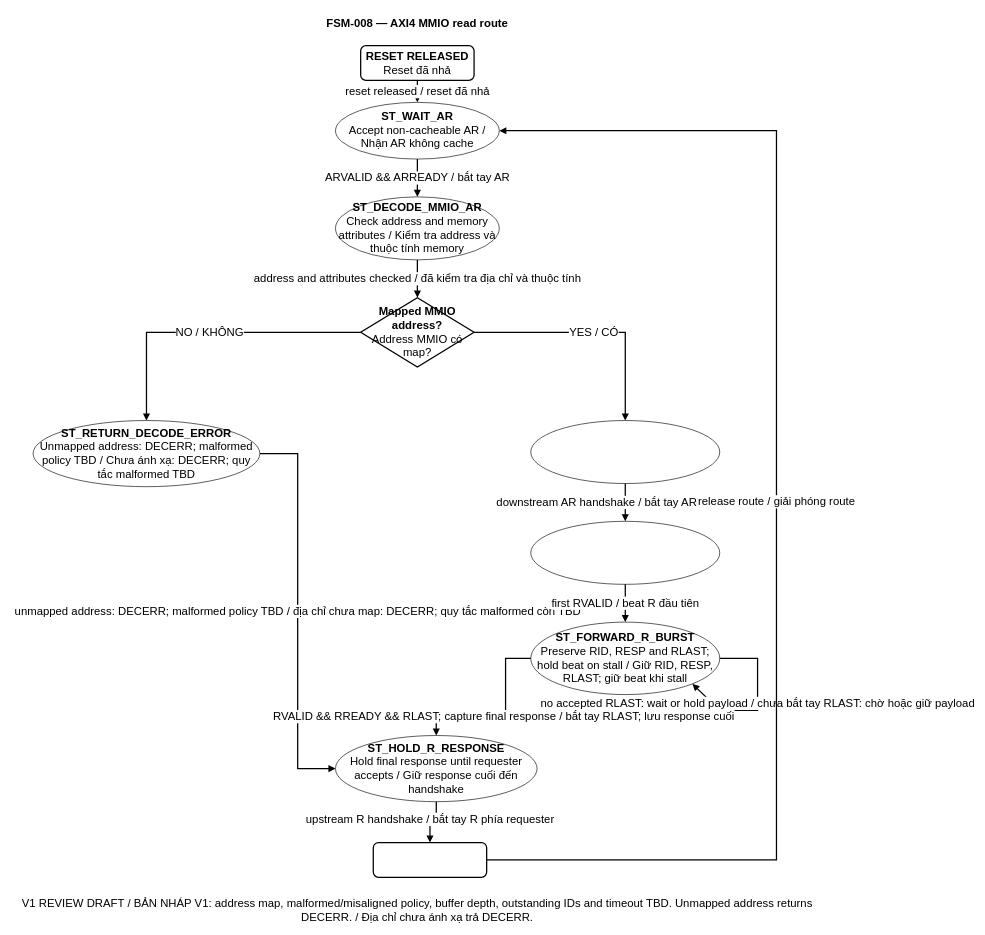
Image size: 985x935. Some labels were removed from this diagram. Each missing label, with the centre of its shape:
"COMPLETE Hoàn tất" belongs at pixel 429 860.
"ST_FORWARD_AR Forward AR with ID and attributes / Chuyển AR kèm ID và thuộc tính" belongs at pixel 625 452.
"ST_WAIT_R_BURST Wait for R beats through RLAST / Chờ các beat R đến RLAST" belongs at pixel 625 552.
